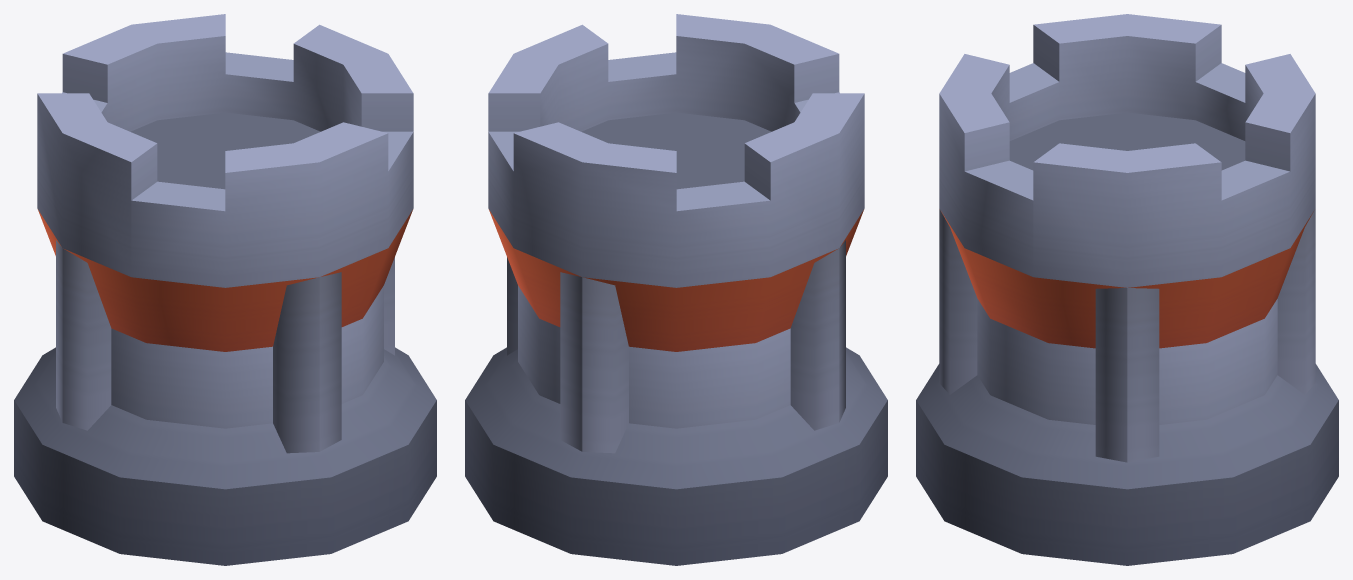
Rendered from tower-round-build-a.fbx.
3 renders of one model, left to right at view 1: azimuth 30°, elevation 25°; view 2: azimuth 150°, elevation 25°; view 3: azimuth 270°, elevation 25°, orthographic.
Parts seen in each view (by area): view 1: tower-round-build-a; view 2: tower-round-build-a; view 3: tower-round-build-a.
Boxes of the visible parts, x1,y1,x2,y2 form: tower-round-build-a: [14, 14, 436, 565]; tower-round-build-a: [465, 14, 887, 565]; tower-round-build-a: [916, 14, 1338, 565].
Bounding box in the file's own units: 100 × 100 × 100.
